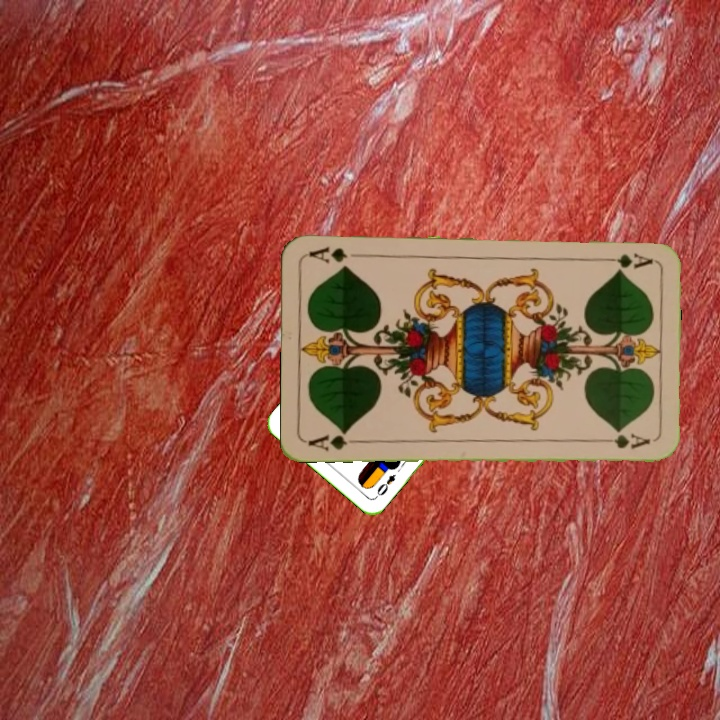EO: (371, 470, 398, 501)
GA: (305, 427, 364, 454), (596, 249, 655, 269)
